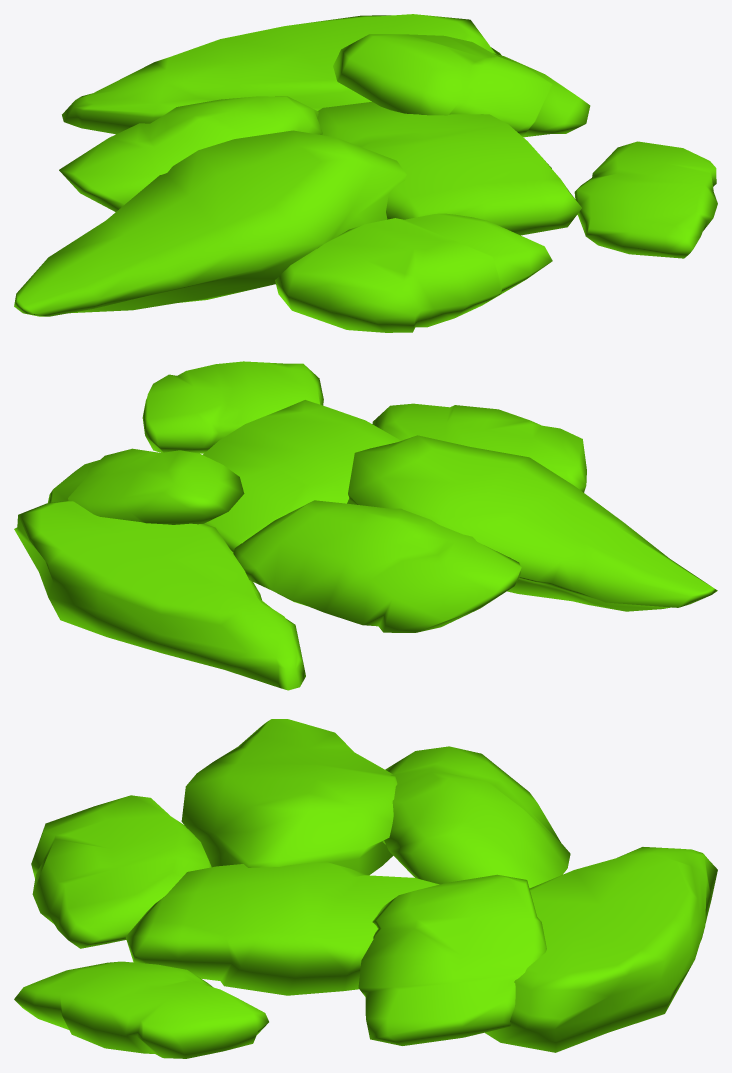
The model's file is Rock_Scree_01_Lod0.fbx.
3 views of the same model, one above another, from view 1: azimuth 30°, elevation 25°; view 2: azimuth 150°, elevation 25°; view 3: azimuth 270°, elevation 25° (orthographic). The views are drawn at different scales.
Parts seen in each view (by area): view 1: Rock_Scree_01_Lod0; view 2: Rock_Scree_01_Lod0; view 3: Rock_Scree_01_Lod0.
Boxes of the visible parts, x1,y1,x2,y2 form: Rock_Scree_01_Lod0: (14,14,717,332); Rock_Scree_01_Lod0: (14,361,717,690); Rock_Scree_01_Lod0: (14,719,717,1058).
Size of the model in its own units: 904 by 147 by 791.
